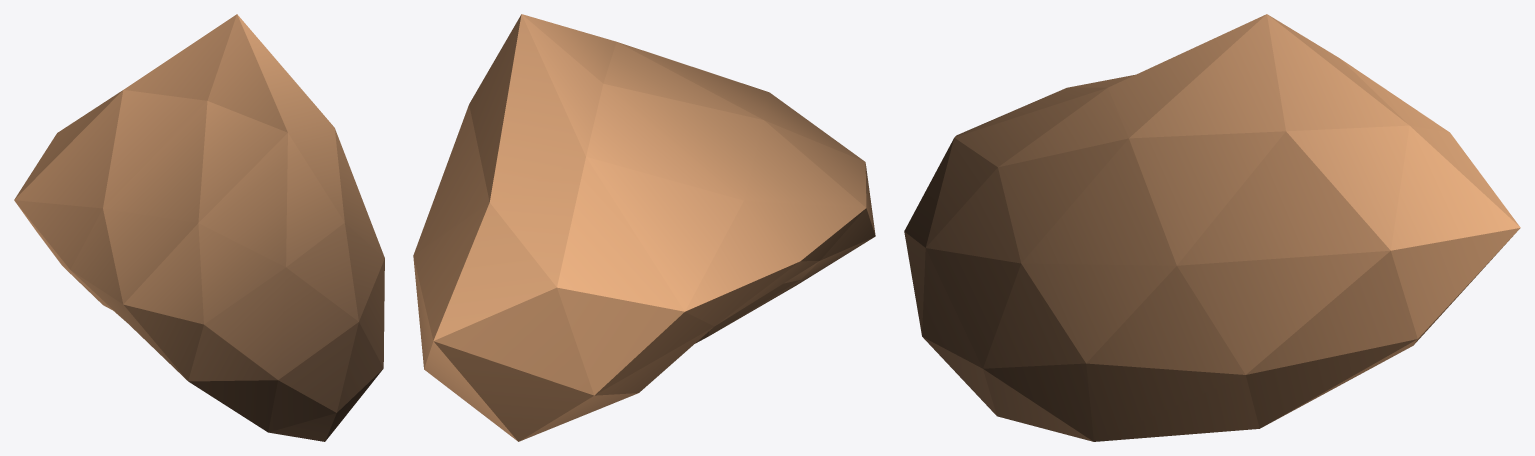
Rendered from stone_b.fbx.
3 renders of one model, left to right at view 1: azimuth 30°, elevation 25°; view 2: azimuth 150°, elevation 25°; view 3: azimuth 270°, elevation 25°, orthographic. The views are drawn at different scales.
Parts seen in each view (by area): view 1: Icosphere.011; view 2: Icosphere.011; view 3: Icosphere.011.
Boxes of the visible parts, x1,y1,x2,y2 form: Icosphere.011: (14, 14, 384, 441); Icosphere.011: (413, 14, 875, 441); Icosphere.011: (904, 14, 1520, 441).
Bounding box in the file's own units: 4.08 × 5.11 × 6.62.
Materials: 1 (1 with a texture image).
